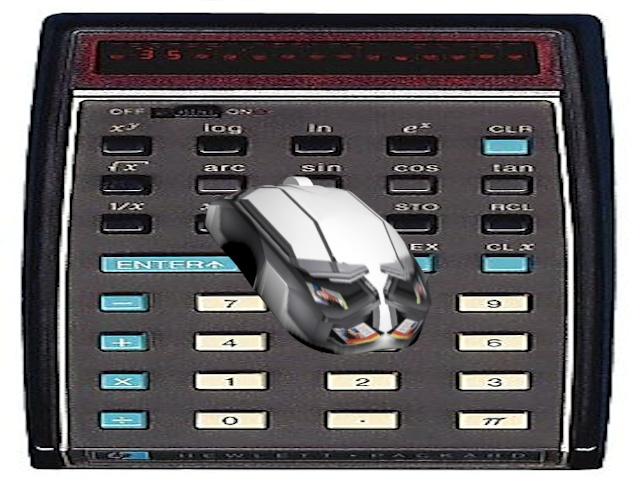mouse: (201, 177, 434, 360)
